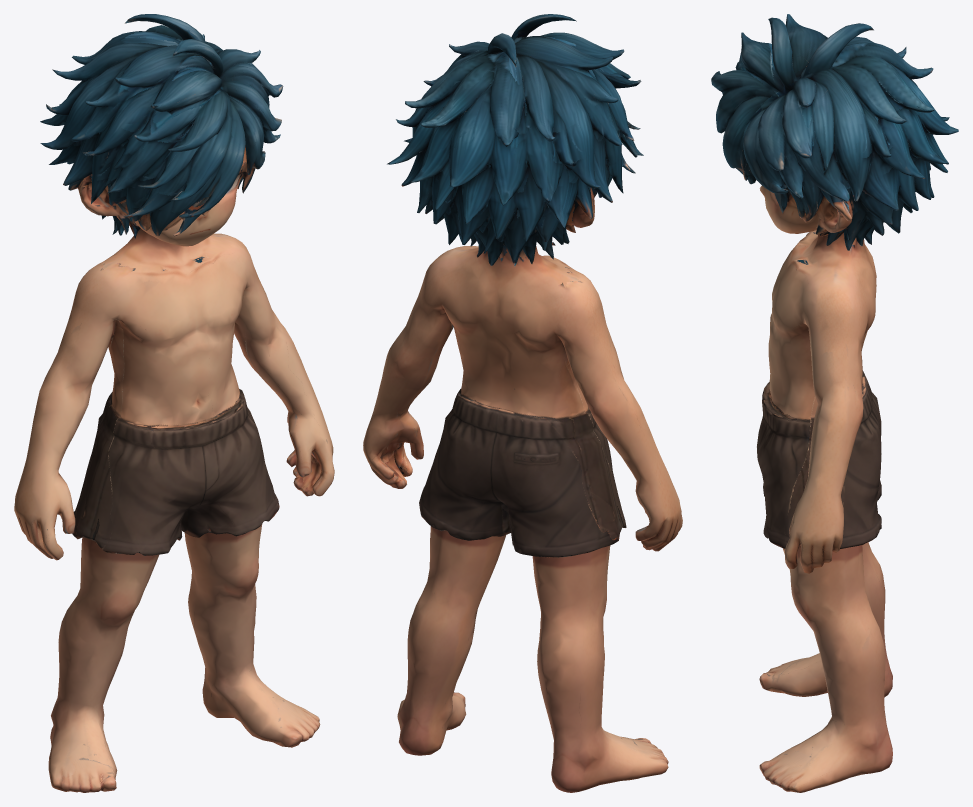
File: body.glb
3 renders of one model, left to right at view 1: azimuth 30°, elevation 25°; view 2: azimuth 150°, elevation 25°; view 3: azimuth 270°, elevation 25°, orthographic. The views are drawn at different scales.
Visible parts, largest first — view 1: texture_mapping; view 2: texture_mapping; view 3: texture_mapping.
Part boxes in pixels (x1,y1,x2,y2): texture_mapping: [14, 14, 334, 792]; texture_mapping: [363, 14, 682, 792]; texture_mapping: [711, 14, 958, 792].
Size of the model in its own units: 0.4424 by 0.9966 by 0.316.
1 material, 1 textured.
